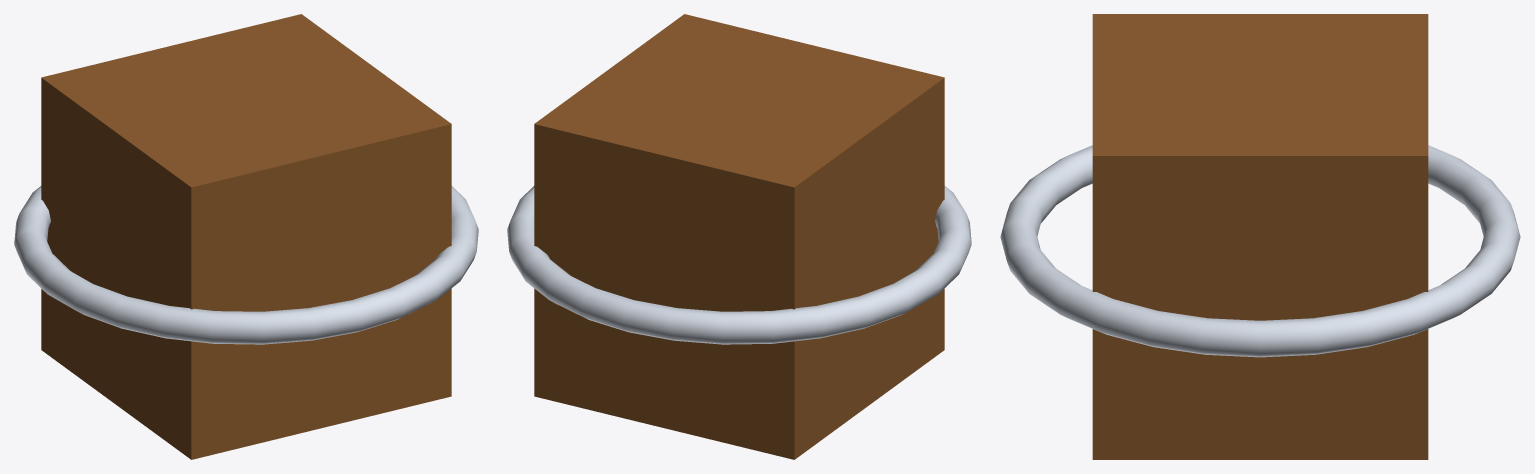
Rendered from crate.glb.
3 renders of one model, left to right at view 1: azimuth 30°, elevation 25°; view 2: azimuth 150°, elevation 25°; view 3: azimuth 270°, elevation 25°, orthographic. The views are drawn at different scales.
Parts seen in each view (by area): view 1: CrateMesh, BandMesh; view 2: CrateMesh, BandMesh; view 3: CrateMesh, BandMesh.
Boxes of the visible parts, left/top/right/bottom form: CrateMesh: left=41, top=14, right=451, bottom=459; BandMesh: left=14, top=186, right=478, bottom=344; CrateMesh: left=534, top=14, right=944, bottom=459; BandMesh: left=507, top=186, right=971, bottom=344; CrateMesh: left=1092, top=14, right=1428, bottom=459; BandMesh: left=1000, top=145, right=1520, bottom=357.
Bounding box in the file's own units: 1.55 × 1 × 1.55.
